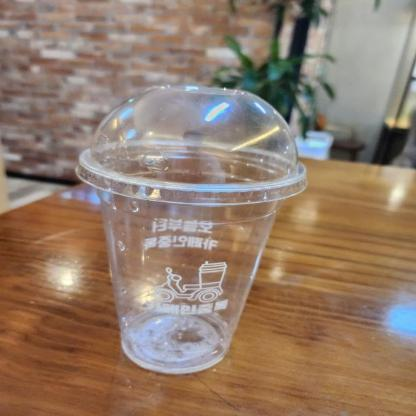Plastic Cup: (78, 87, 306, 378)
